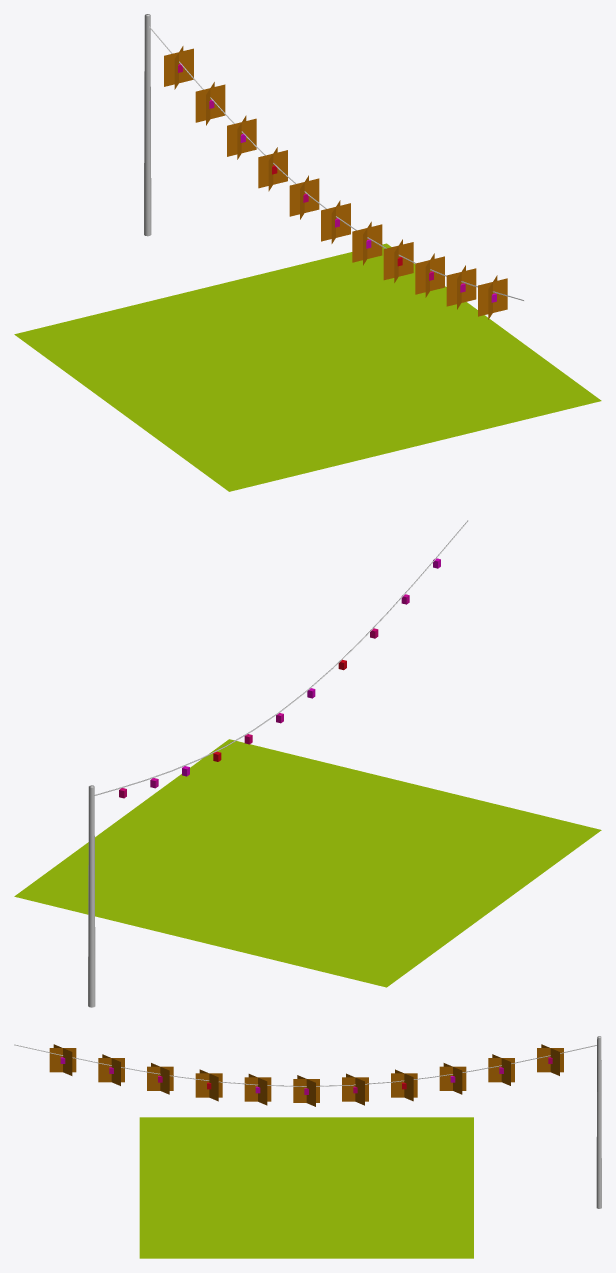
Rendered from leuchte_kette.glb.
3 views of the same model, one above another, from view 1: azimuth 30°, elevation 25°; view 2: azimuth 150°, elevation 25°; view 3: azimuth 270°, elevation 25° (orthographic). The views are drawn at different scales.
Parts seen in each view (by area): view 1: leuchte_kette_lod0; view 2: leuchte_kette_lod0; view 3: leuchte_kette_lod0.
Part boxes in pixels (left/top/right/bottom): leuchte_kette_lod0: left=14, top=14, right=601, bottom=491; leuchte_kette_lod0: left=14, top=520, right=601, bottom=1007; leuchte_kette_lod0: left=14, top=1036, right=601, bottom=1258.
Size of what is drawn, in the model's own units: 8 by 4.5 by 14.07.
